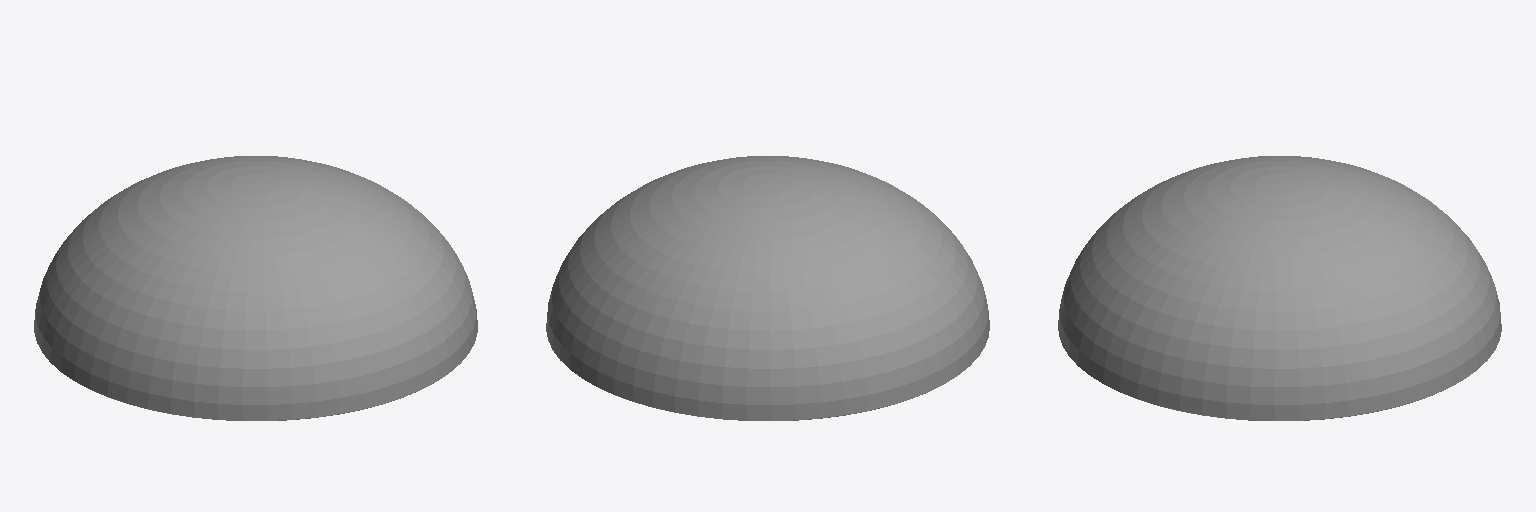
The model's file is light_3.obj.
3 renders of one model, left to right at view 1: azimuth 30°, elevation 25°; view 2: azimuth 150°, elevation 25°; view 3: azimuth 270°, elevation 25°, orthographic.
Visible parts, largest first — view 1: light_3_Sphere002.005; view 2: light_3_Sphere002.005; view 3: light_3_Sphere002.005.
Boxes of the visible parts, <box> form: light_3_Sphere002.005: <box>34,156,477,420</box>; light_3_Sphere002.005: <box>546,156,989,420</box>; light_3_Sphere002.005: <box>1058,156,1501,420</box>.
Bounding box in the file's own units: 0.3803 × 0.1374 × 0.3803.